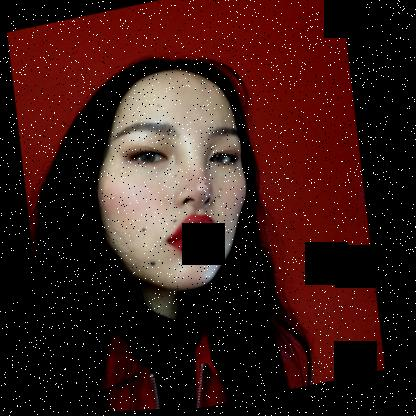Female: (75, 58, 268, 307)
